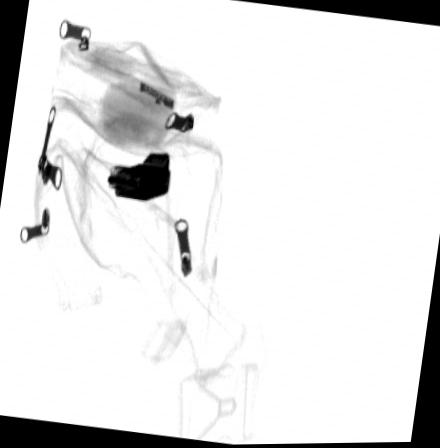Lighter: (106, 152, 171, 202)
